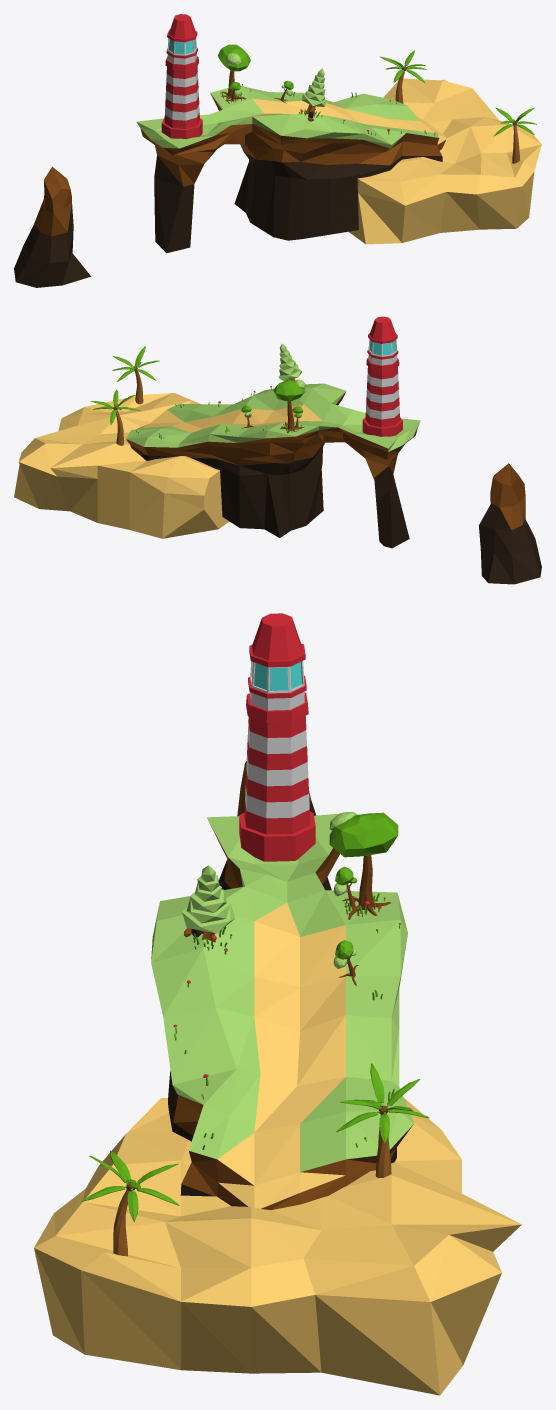
File: Island_A01.fbx
3 renders of one model, top to bottom at view 1: azimuth 30°, elevation 25°; view 2: azimuth 150°, elevation 25°; view 3: azimuth 270°, elevation 25°, orthographic. The views are drawn at different scales.
Parts seen in each view (by area): view 1: Island_A01_Combi; view 2: Island_A01_Combi; view 3: Island_A01_Combi.
Part boxes in pixels (<box>): Island_A01_Combi: <box>14,14,541,287</box>; Island_A01_Combi: <box>14,316,541,584</box>; Island_A01_Combi: <box>34,613,521,1395</box>.
Size of the model in its own units: 79.23 by 35.84 by 34.37.
